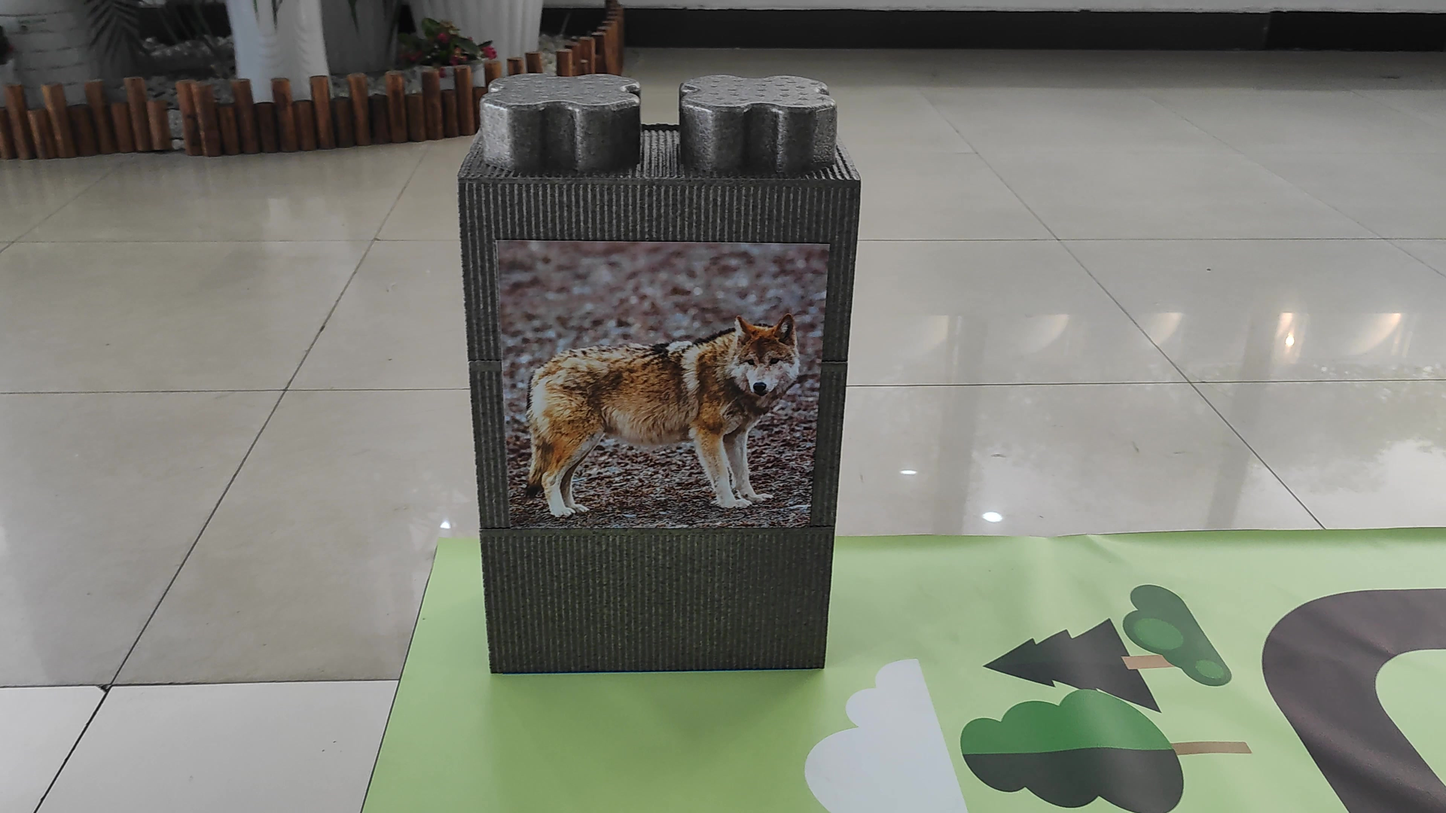wolf: (503, 295, 793, 544)
